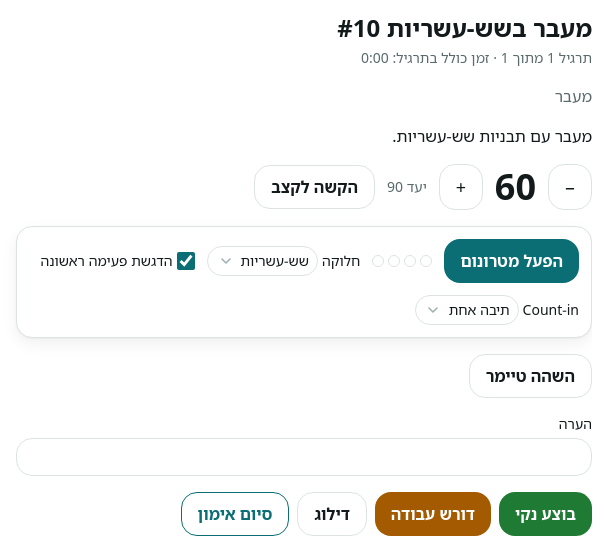
Test: PracticeSessionPage › toggles the metronome on and off without errors
The width and height of the screenshot is (604, 553).
Click the button "הפעל מטרונום" at (512, 261), box [444,239,579,283]
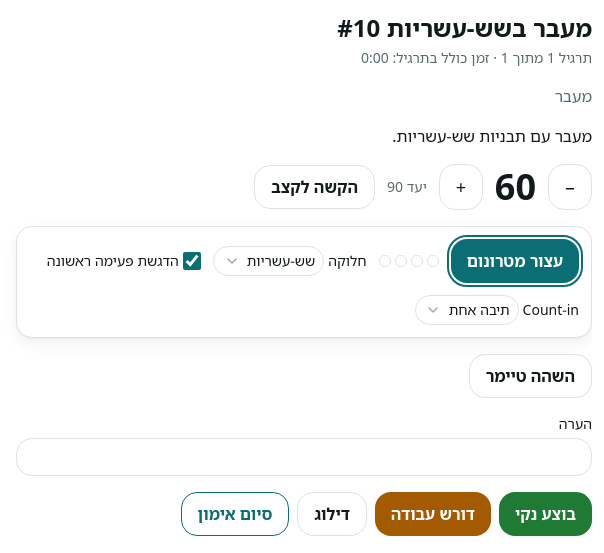
Expected: the button "עצור מטרונום" is shown
Click the button "עצור מטרונום" at (515, 261), box [451,239,579,283]
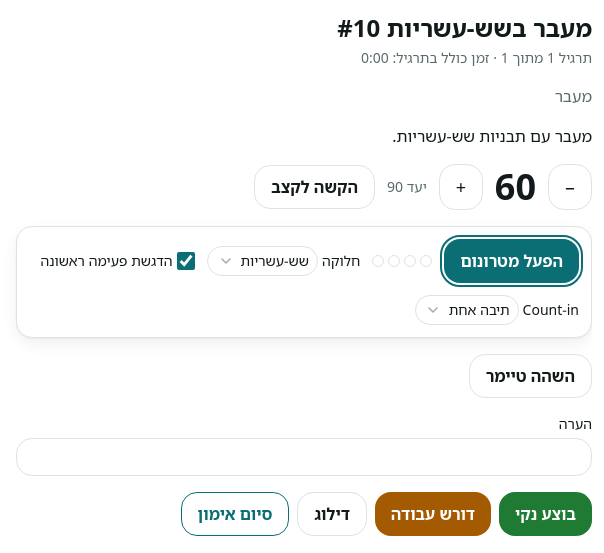
Expected: the button "הפעל מטרונום" is shown, [444,239,579,283]
